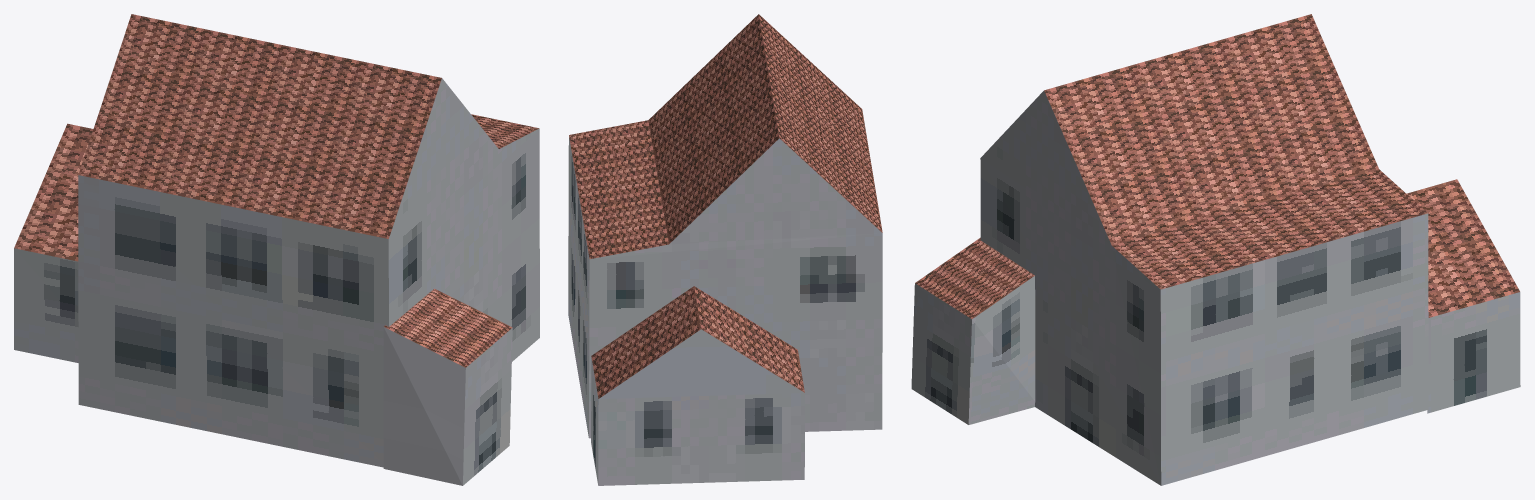
The model's file is lodshoos01_sfn03.obj.
The picture shows the model from 3 angles, left to right: view 1: azimuth 30°, elevation 25°; view 2: azimuth 150°, elevation 25°; view 3: azimuth 270°, elevation 25°; orthographic projection. The views are drawn at different scales.
Visible parts, largest first — view 1: LODshoos01_SFN03; view 2: LODshoos01_SFN03; view 3: LODshoos01_SFN03.
Boxes of the visible parts, x1,y1,x2,y2 form: LODshoos01_SFN03: (14,14,539,485); LODshoos01_SFN03: (568,14,882,485); LODshoos01_SFN03: (911,14,1520,485).
Bounding box in the file's own units: 14.63 × 11.79 × 19.88.
3 materials, 3 textured.
